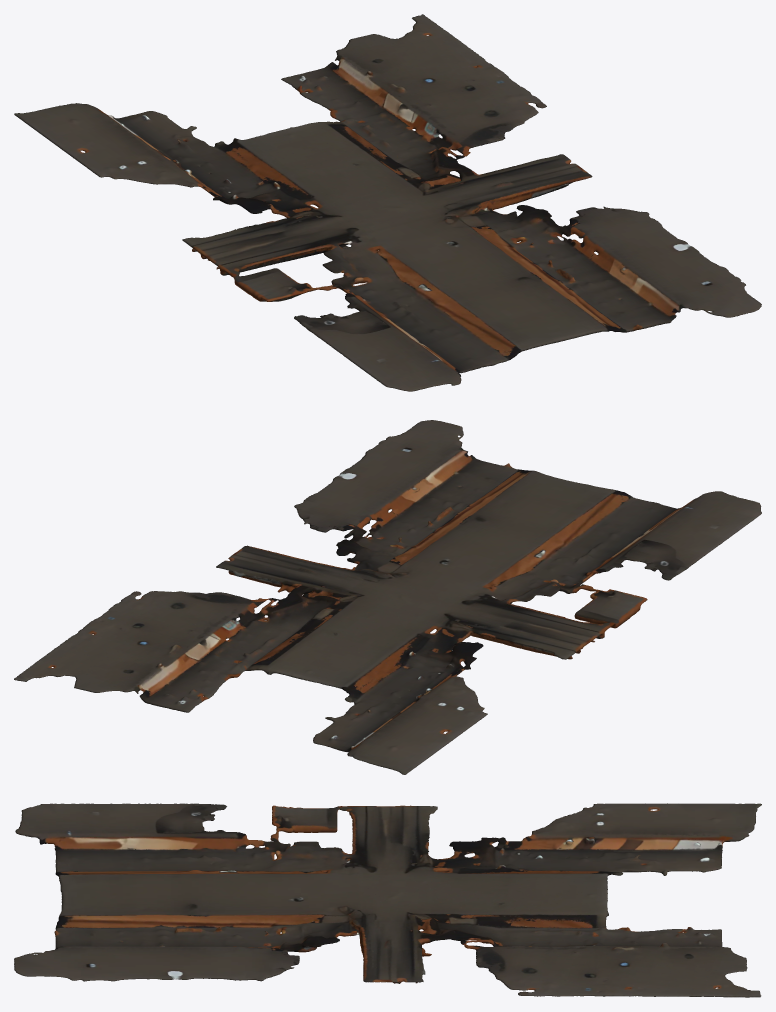
File: ruined_megastructures_98149.glb
3 views of the same model, one above another, from view 1: azimuth 30°, elevation 25°; view 2: azimuth 150°, elevation 25°; view 3: azimuth 270°, elevation 25° (orthographic). The views are drawn at different scales.
Visible parts, largest first — view 1: Mesh; view 2: Mesh; view 3: Mesh.
Part boxes in pixels (x1,y1,x2,y2): Mesh: (14, 14, 761, 391); Mesh: (14, 420, 761, 774); Mesh: (14, 803, 761, 997).
Bounding box in the file's own units: 1.16 × 0.0455 × 1.9.
1 material, 1 textured.
